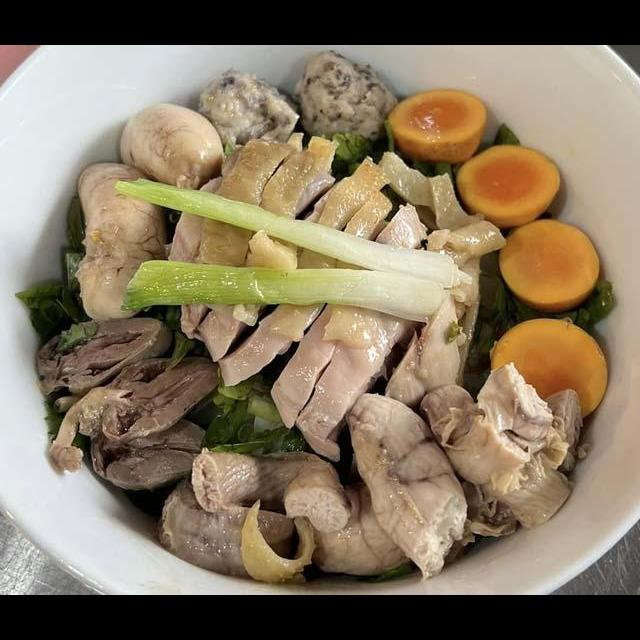thit ga: (290, 217, 510, 467), (214, 153, 391, 392), (266, 198, 435, 432), (192, 132, 346, 365), (165, 127, 310, 343), (375, 210, 511, 418)
trung: (483, 315, 613, 427), (496, 215, 605, 314), (451, 142, 565, 233), (382, 86, 491, 167)
vien moc: (285, 46, 405, 163), (192, 63, 305, 160)
